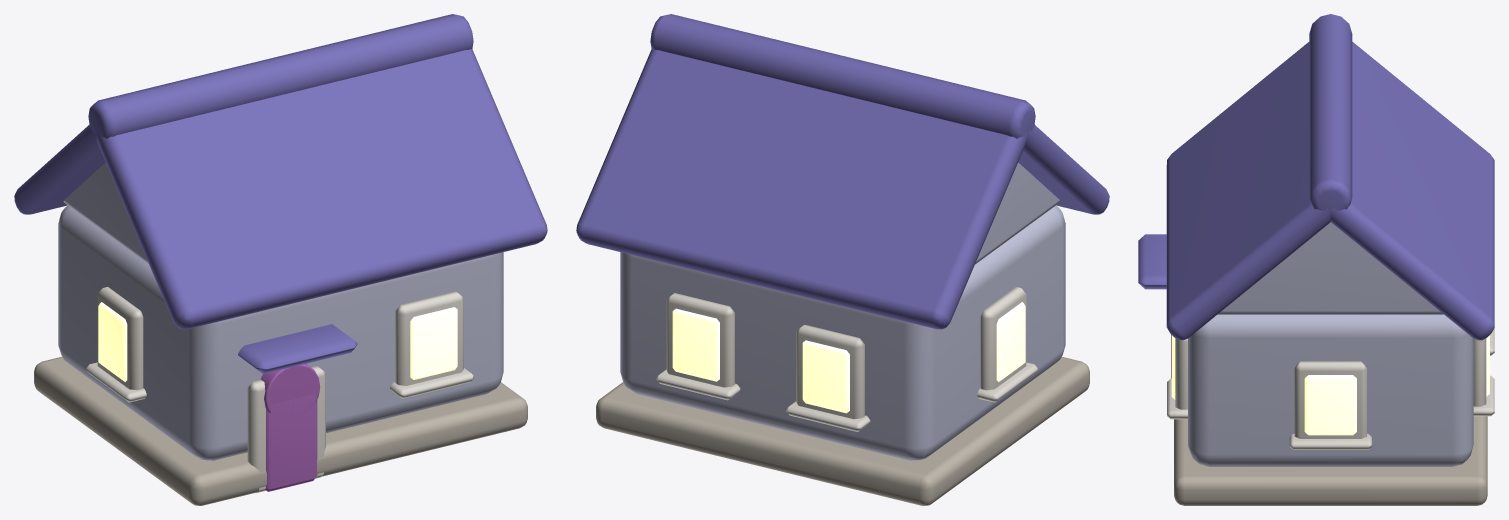
The picture shows the model from 3 angles, left to right: view 1: azimuth 30°, elevation 25°; view 2: azimuth 150°, elevation 25°; view 3: azimuth 270°, elevation 25°; orthographic projection. The views are drawn at different scales.
Visible parts, largest first — view 1: Cube; view 2: Cube; view 3: Cube.
Part boxes in pixels (x1,y1,x2,y2): Cube: (14,14,547,505); Cube: (576,14,1109,505); Cube: (1138,14,1494,505).
Size of the model in its own units: 0.57 by 0.5175 by 0.4999.
